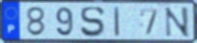7: (139, 8, 159, 36)
8: (25, 6, 47, 37)
9: (55, 6, 74, 37)
I: (113, 5, 121, 38)
N: (164, 6, 191, 38)
S: (79, 5, 107, 38)
